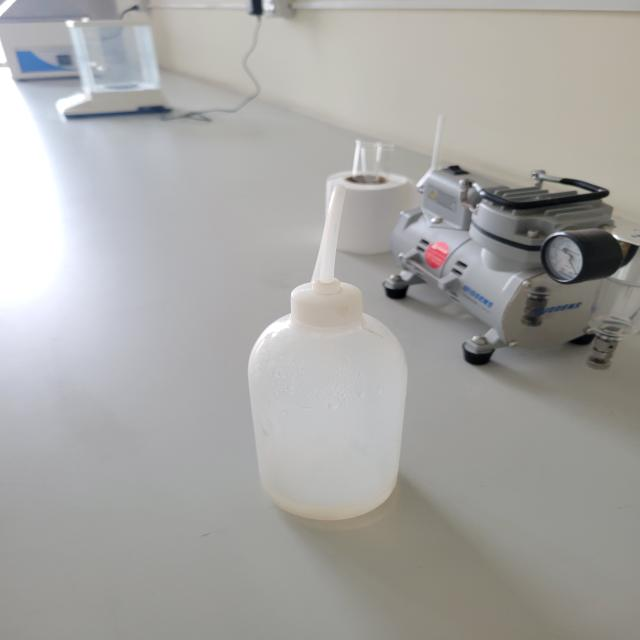Wash_Bottle: (229, 136, 451, 556)
